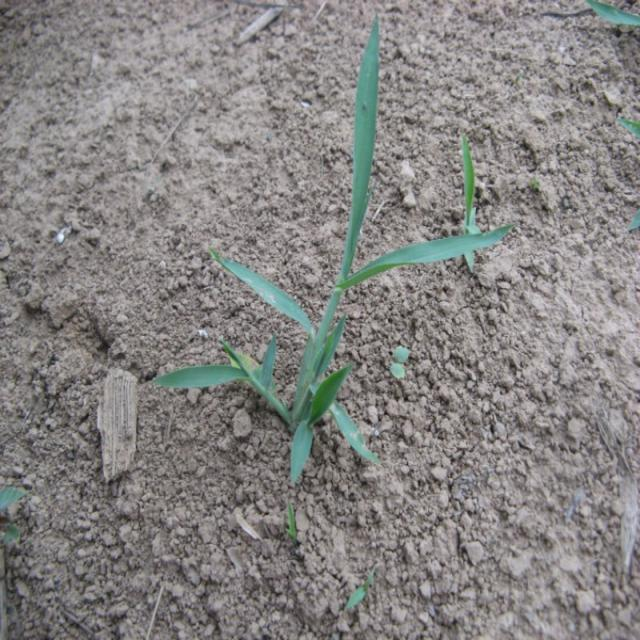bg: (149, 20, 510, 487)
